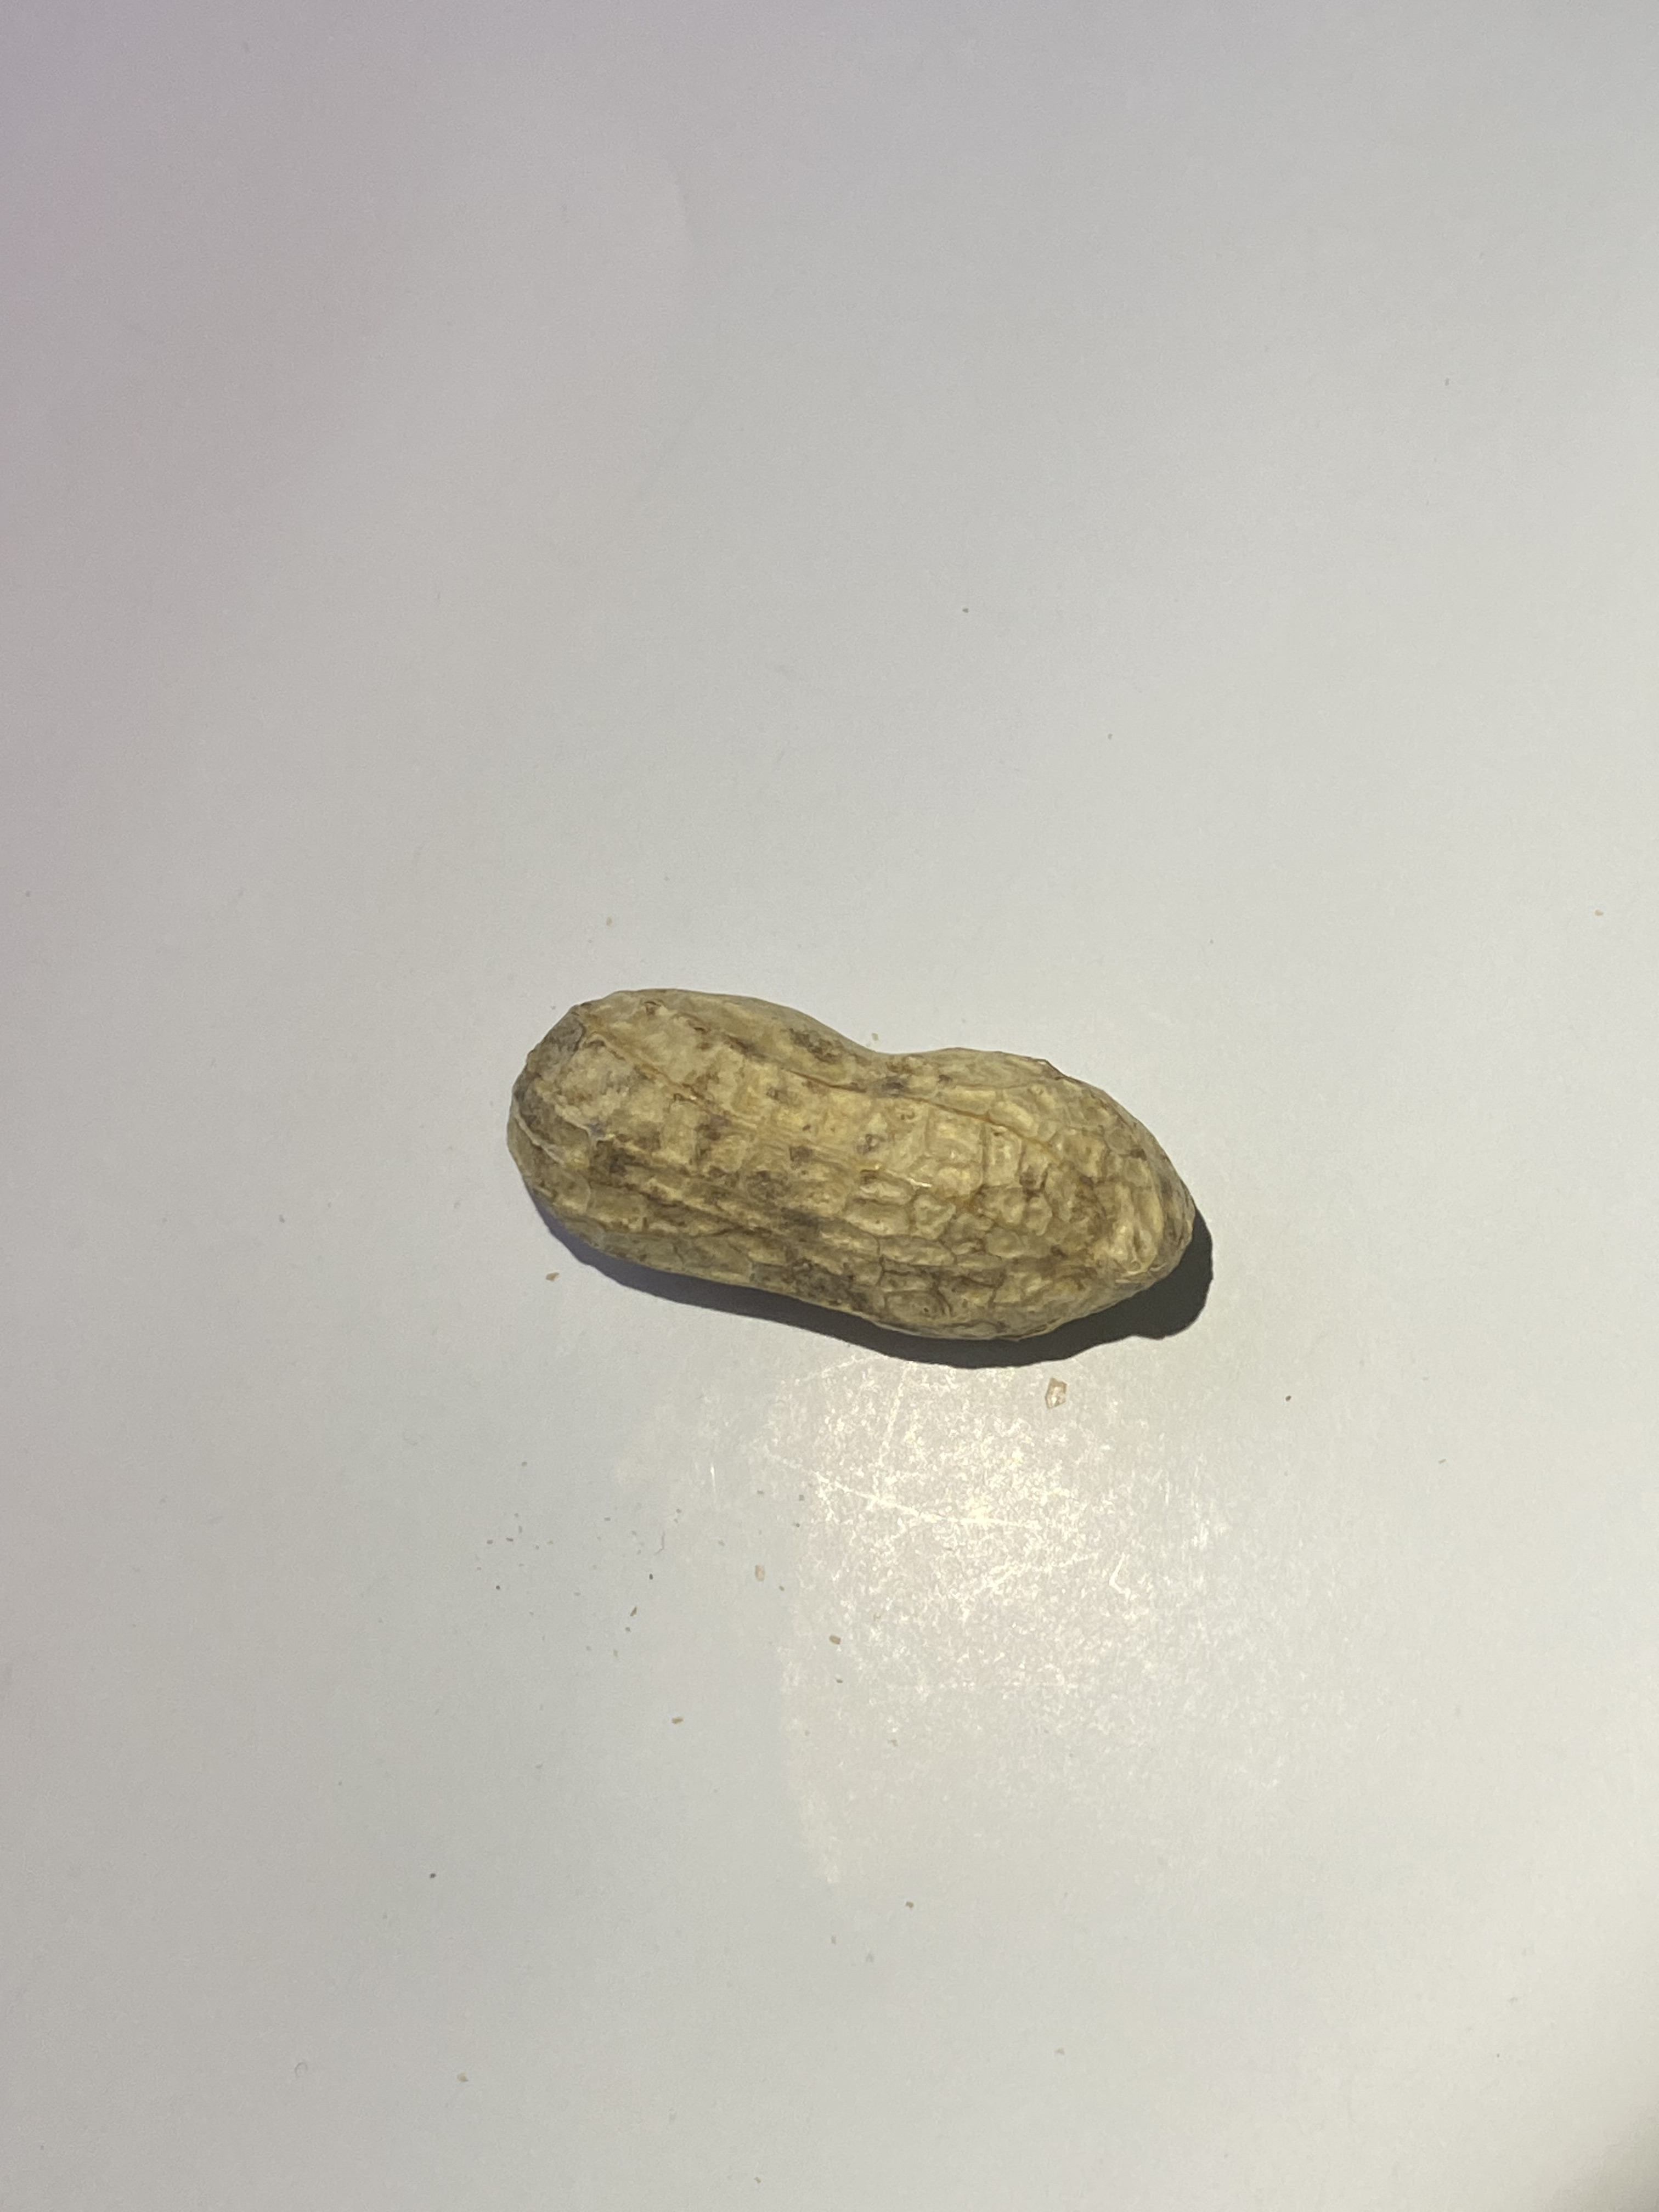kacang2: (481, 965, 1243, 1386)
